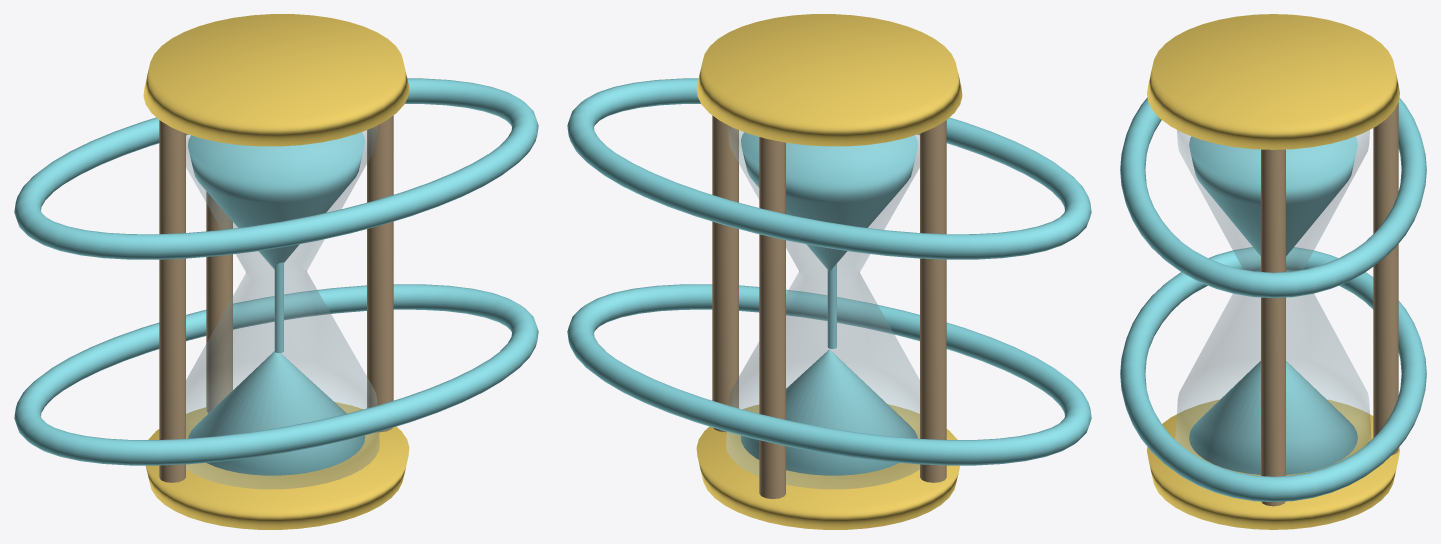
The model's file is time_tear.glb.
The picture shows the model from 3 angles, left to right: view 1: azimuth 30°, elevation 25°; view 2: azimuth 150°, elevation 25°; view 3: azimuth 270°, elevation 25°; orthographic projection.
Size of the model in its own units: 28 by 22 by 14.99.
